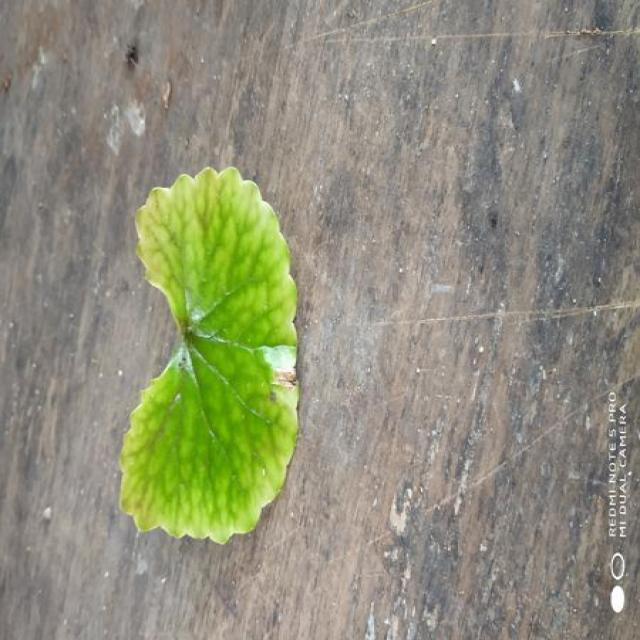defectedbhrami: (120, 168, 297, 542)
